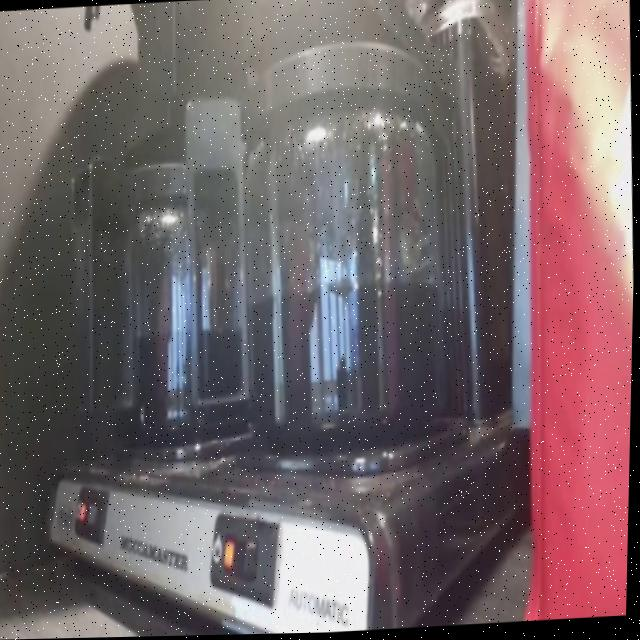coffee: (237, 143, 447, 443), (111, 227, 248, 443)
